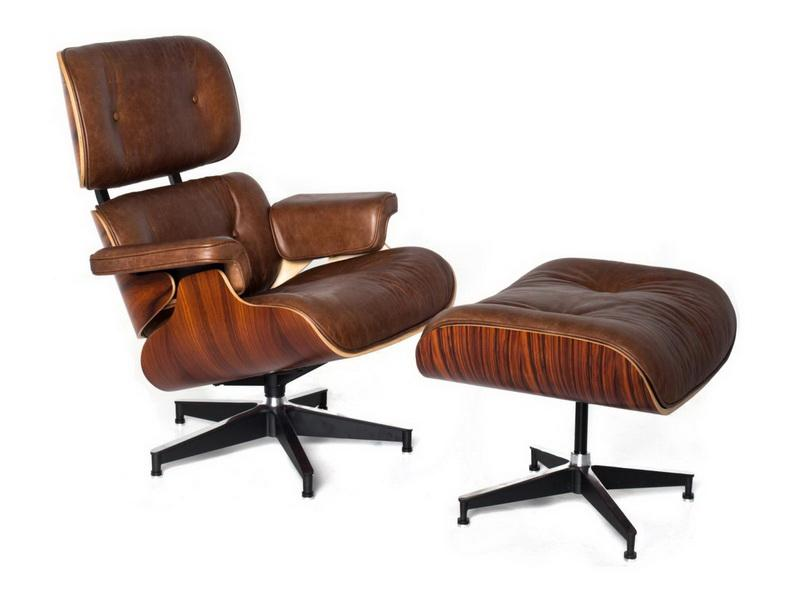chairs: (48, 30, 461, 505), (412, 253, 739, 567)
